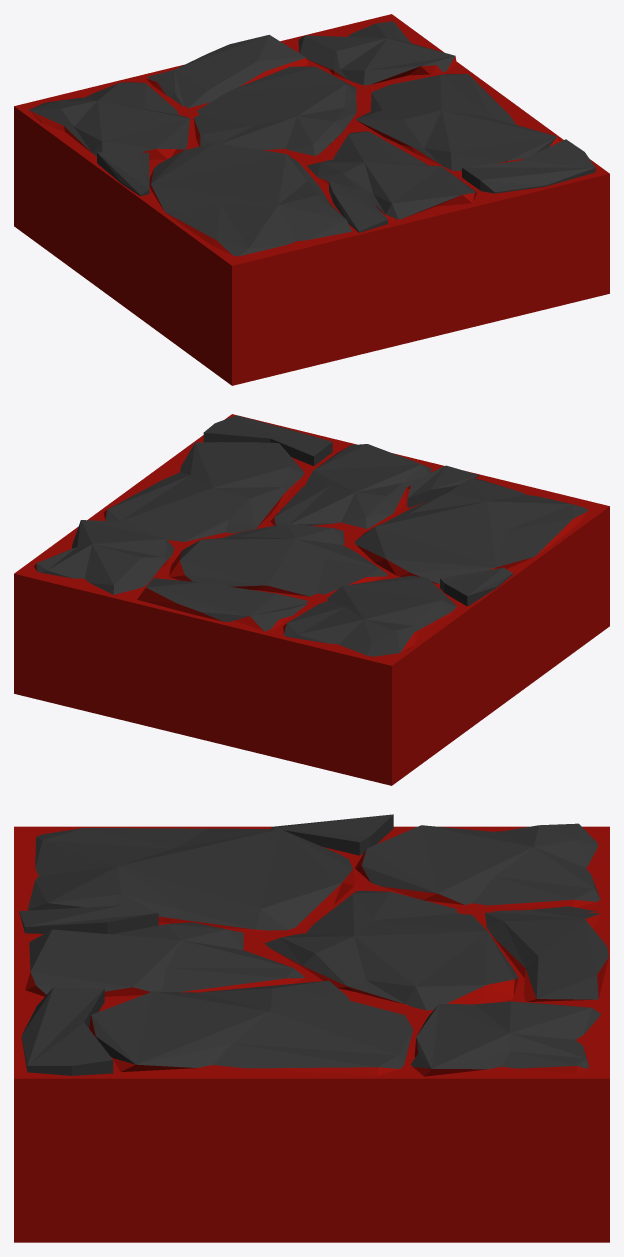
Rendered from Ground_Tiles_Large_01.FBX.
3 renders of one model, top to bottom at view 1: azimuth 30°, elevation 25°; view 2: azimuth 150°, elevation 25°; view 3: azimuth 270°, elevation 25°, orthographic. The views are drawn at different scales.
Visible parts, largest first — view 1: Ground_Tiles_Large_01; view 2: Ground_Tiles_Large_01; view 3: Ground_Tiles_Large_01.
Boxes of the visible parts, x1,y1,x2,y2 form: Ground_Tiles_Large_01: [14, 14, 609, 385]; Ground_Tiles_Large_01: [14, 414, 609, 785]; Ground_Tiles_Large_01: [14, 814, 609, 1242].
Bounding box in the file's own units: 100 × 33.85 × 100.
